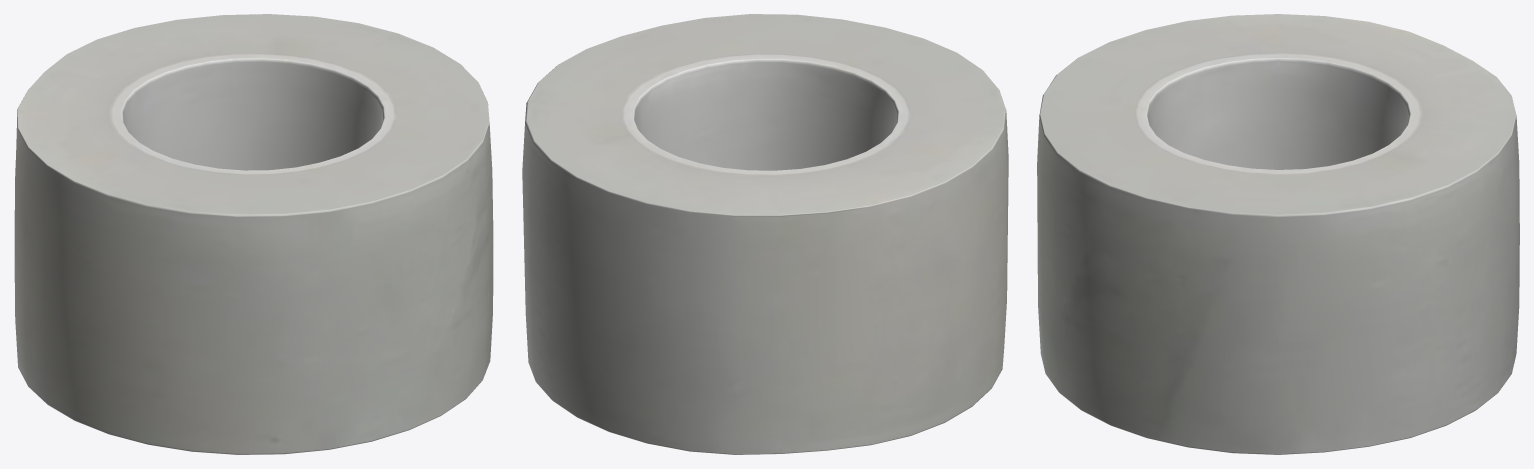
File: medical_tape.glb
The picture shows the model from 3 angles, left to right: view 1: azimuth 30°, elevation 25°; view 2: azimuth 150°, elevation 25°; view 3: azimuth 270°, elevation 25°; orthographic projection.
Visible parts, largest first — view 1: medical_tape; view 2: medical_tape; view 3: medical_tape.
Boxes of the visible parts, <box> form: medical_tape: <box>14,14,493,454</box>; medical_tape: <box>522,14,1008,454</box>; medical_tape: <box>1037,14,1519,454</box>.
Bounding box in the file's own units: 0.0453 × 0.025 × 0.0452.
Materials: 1 (1 with a texture image).
